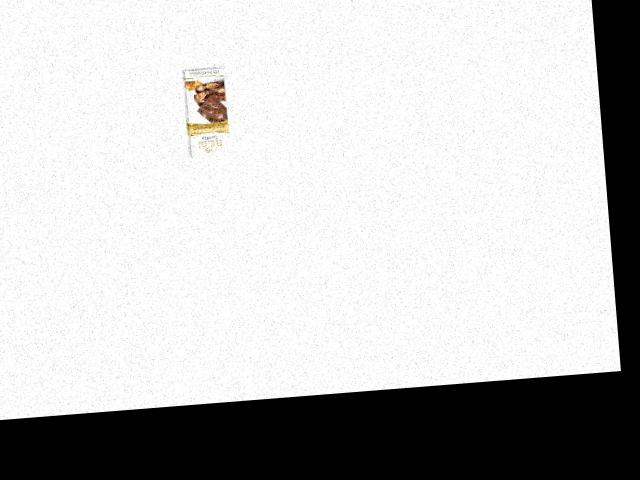chocolate: (174, 66, 240, 164)
